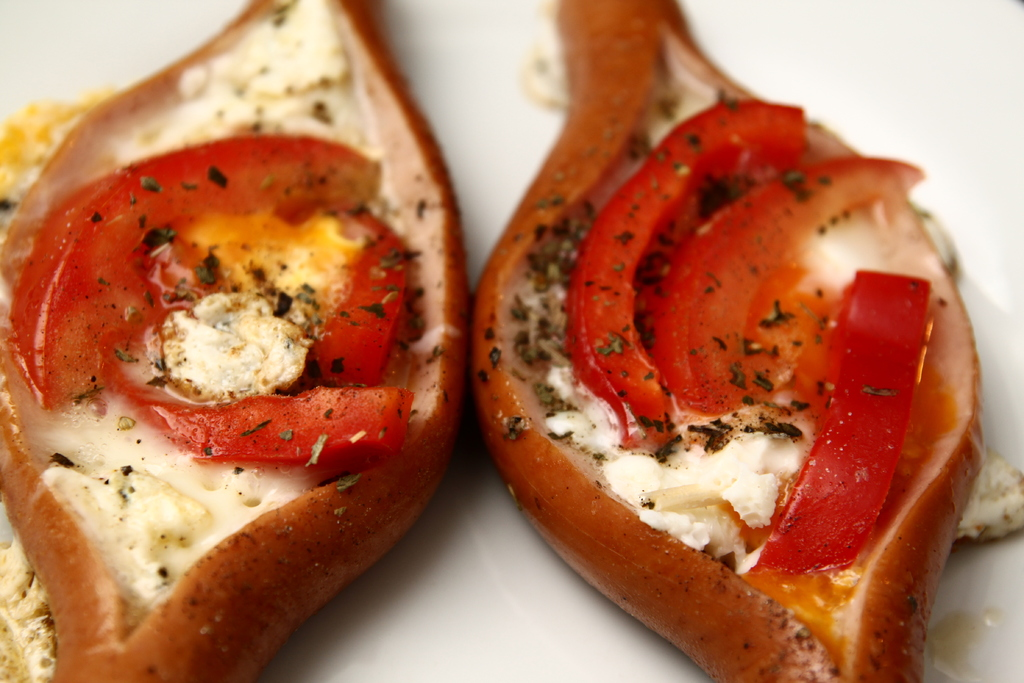Tomato: (7, 136, 376, 410), (561, 97, 805, 450), (651, 157, 922, 413), (752, 270, 929, 576), (133, 385, 414, 463), (314, 206, 407, 384)
